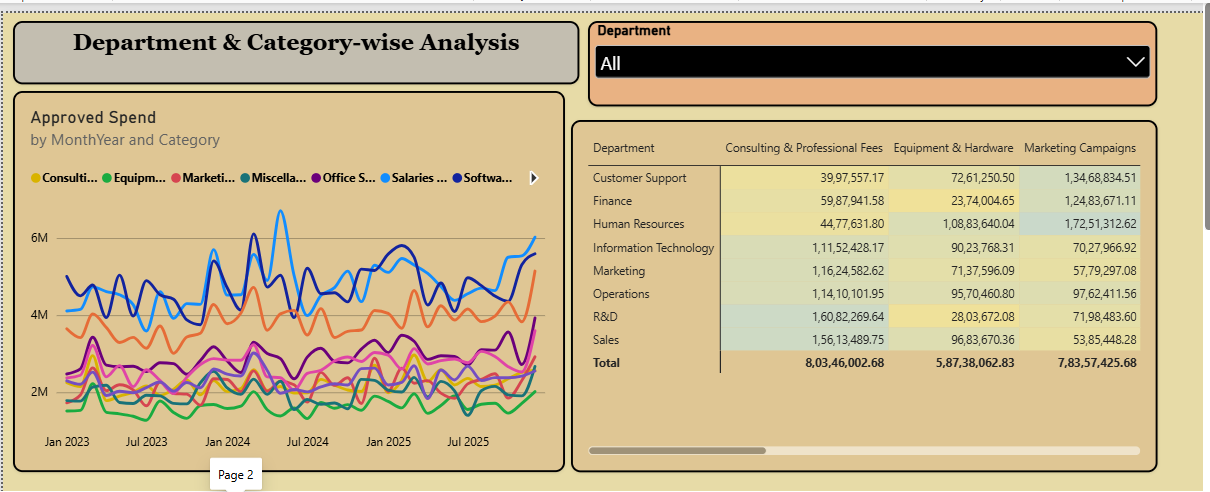

Layout of this report page (visuals, bound fields, positions):
{"tool":"powerbi","page":{"name":"Page 2","canvas":[1920,1080],"ordinal":1},"visuals":[{"type":"textbox","box":[10.1,8.1,589.9,65.7],"z":0},{"type":"pivotTable","fields":{"Rows":["dim_department.Department"],"Columns":["dim_category.Category"],"Values":["fact_actual_expenses_CLEANED.Approved Spend"]},"box":[591.9,111.1,611.1,366.7],"z":1000},{"type":"lineChart","fields":{"Y":["fact_actual_expenses_CLEANED.Approved Spend"],"Series":["dim_category.Category"],"Category":["dim_calendar.MonthYear"]},"box":[10.1,80.8,574.7,397],"z":2000},{"type":"slicer","fields":{"Values":["dim_department.Department"]},"box":[609.1,8.1,592.9,88.9],"z":3000}]}

Visuals, with their boxes on the page's 1920x1080 design canvas (x1, y1, x2, y2). These are canvas units, not pixel positions in the 1210x492 screenshot, which may show the page scaled, cropped or inside an application window:
textbox: detection(10, 8, 600, 74)
pivotTable - dim_department.Department x dim_category.Category: detection(592, 111, 1203, 478)
lineChart - fact_actual_expenses_CLEANED.Approved Spend x dim_category.Category: detection(10, 81, 585, 478)
slicer - dim_department.Department: detection(609, 8, 1202, 97)
